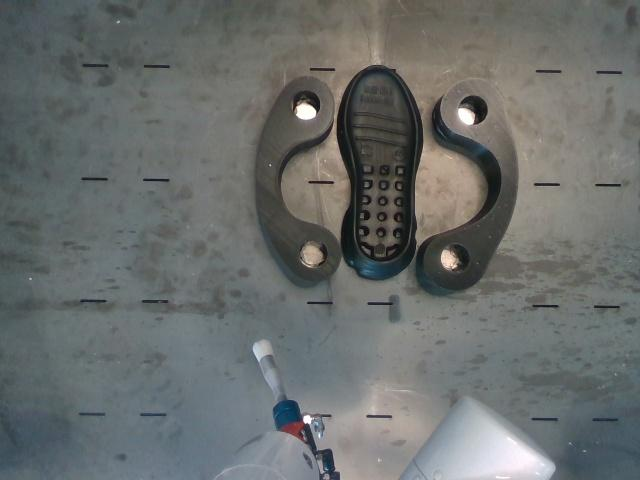shoes: (346, 66, 417, 262)
